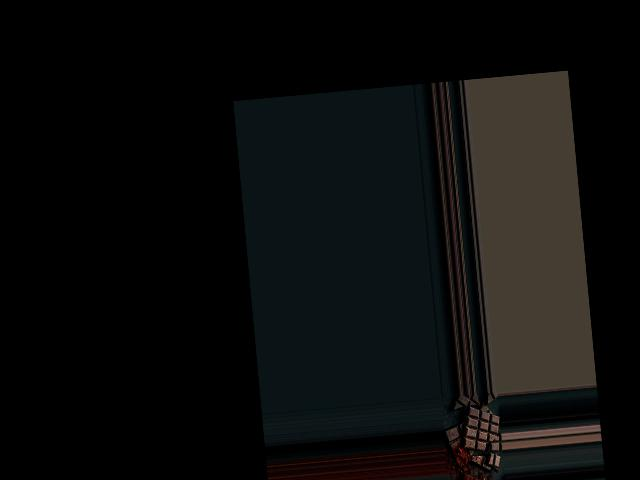chocolate: (459, 402, 502, 452)
